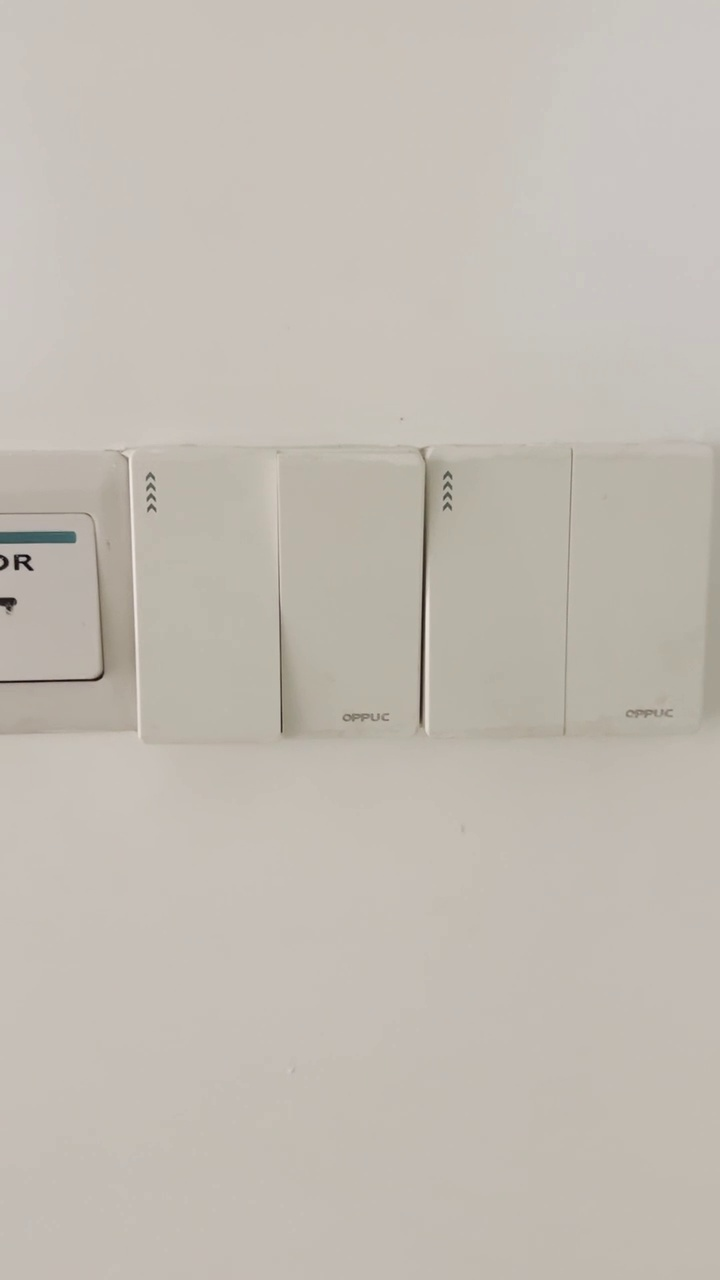button1: (132, 449, 274, 739), (286, 459, 418, 733), (434, 456, 561, 733), (574, 456, 700, 729)
